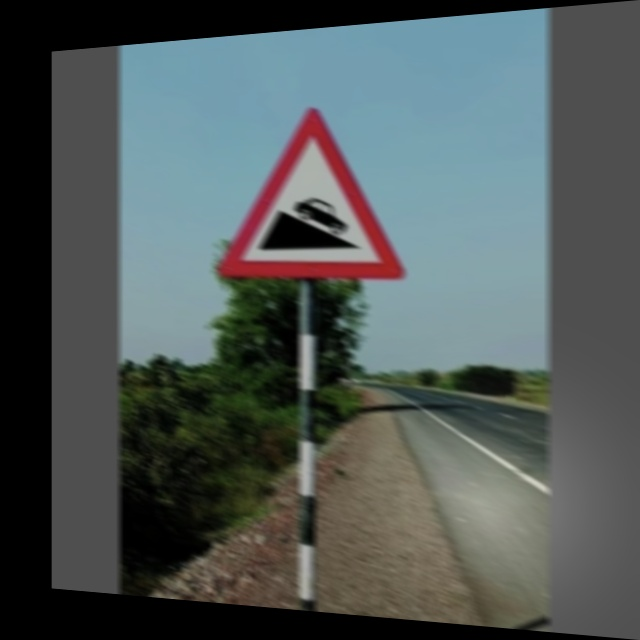Steep_Descent: (228, 99, 407, 280)
